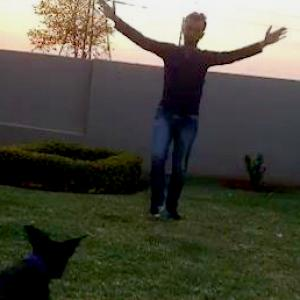takeoff: (96, 4, 282, 215)
